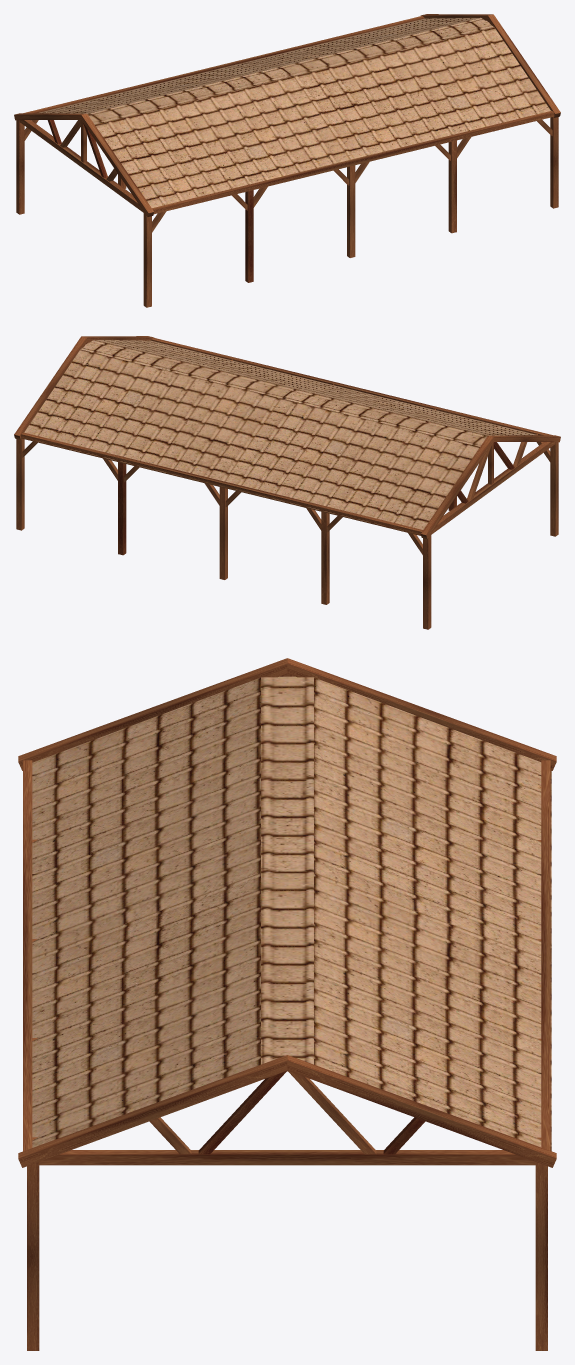
Rendered from Storage_Open.dae.
3 views of the same model, one above another, from view 1: azimuth 30°, elevation 25°; view 2: azimuth 150°, elevation 25°; view 3: azimuth 270°, elevation 25° (orthographic). The views are drawn at different scales.
Parts seen in each view (by area): view 1: Storage_Open; view 2: Storage_Open; view 3: Storage_Open.
Boxes of the visible parts, bbox=[...] form: Storage_Open: bbox=[14, 14, 560, 307]; Storage_Open: bbox=[14, 336, 560, 629]; Storage_Open: bbox=[18, 658, 556, 1350].
Size of the model in its own units: 97.33 by 55.06 by 32.77.
